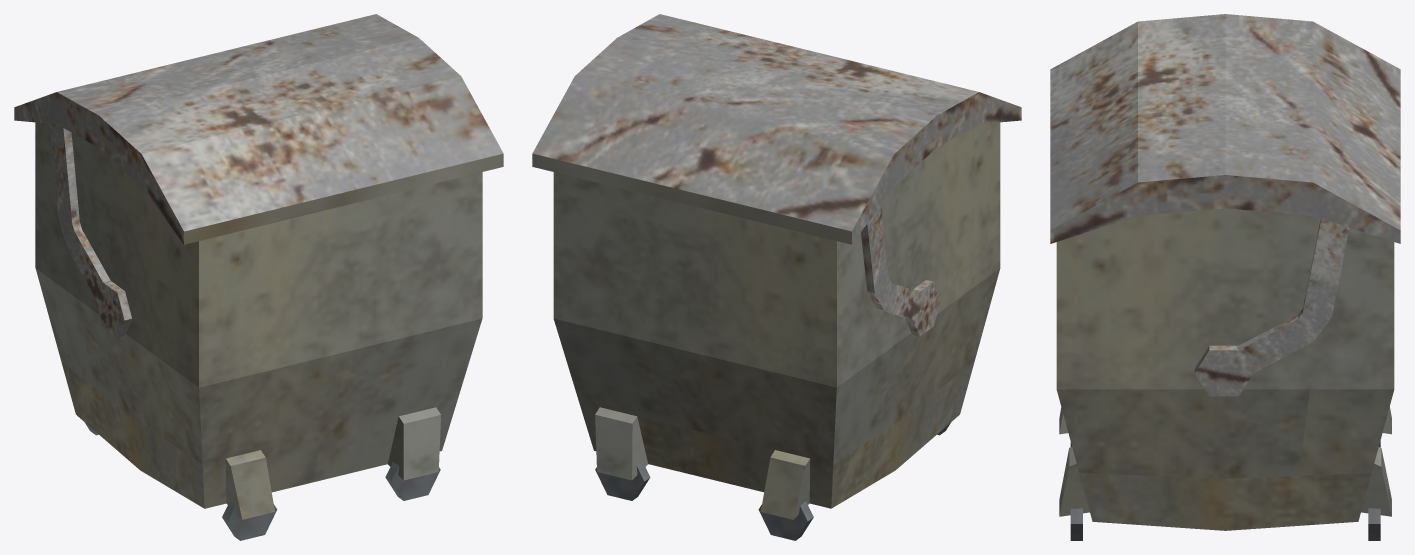
Rendered from metalContainer.fbx.
3 renders of one model, left to right at view 1: azimuth 30°, elevation 25°; view 2: azimuth 150°, elevation 25°; view 3: azimuth 270°, elevation 25°, orthographic. The views are drawn at different scales.
Visible parts, largest first — view 1: metalContainer; view 2: metalContainer; view 3: metalContainer.
Boxes of the visible parts, bbox=[...] form: metalContainer: bbox=[14, 14, 503, 540]; metalContainer: bbox=[532, 14, 1021, 540]; metalContainer: bbox=[1050, 14, 1400, 540].
Bounding box in the file's own units: 142 × 164 × 130.
